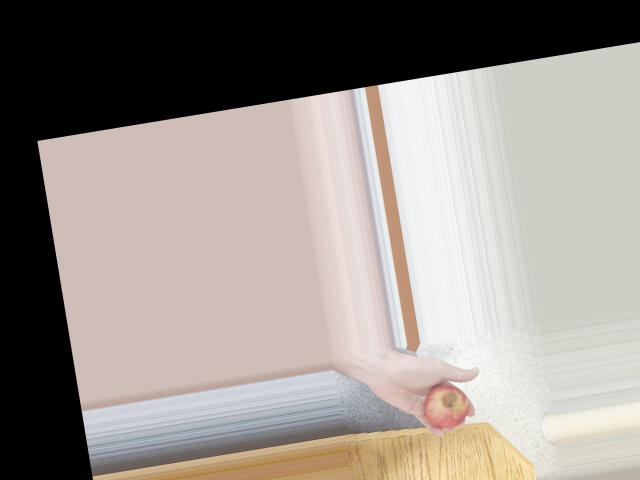apple: (401, 374, 478, 437)
